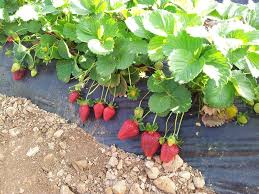ripe: (139, 127, 161, 159), (156, 141, 181, 164), (118, 119, 138, 141), (77, 100, 90, 121), (101, 106, 116, 121), (93, 100, 104, 120), (67, 89, 79, 104), (12, 68, 26, 80)
unripe: (133, 105, 143, 118), (10, 61, 20, 72), (30, 68, 38, 77)
